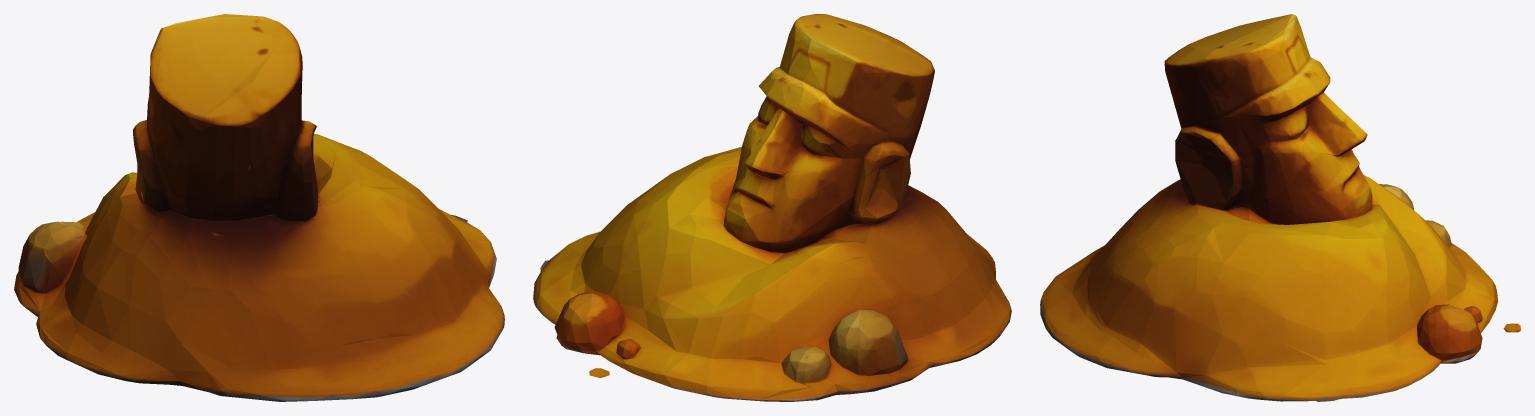
Rendered from desert_dune.glb.
3 renders of one model, left to right at view 1: azimuth 30°, elevation 25°; view 2: azimuth 150°, elevation 25°; view 3: azimuth 270°, elevation 25°, orthographic. The views are drawn at different scales.
Parts seen in each view (by area): view 1: world; view 2: world; view 3: world.
Boxes of the visible parts, x1=… form: world: x1=14, y1=14, x2=504, y2=401; world: x1=533, y1=14, x2=1011, y2=401; world: x1=1040, y1=14, x2=1520, y2=401.
Bounding box in the file's own units: 0.9192 × 0.5777 × 0.974.
Materials: 1 (1 with a texture image).
